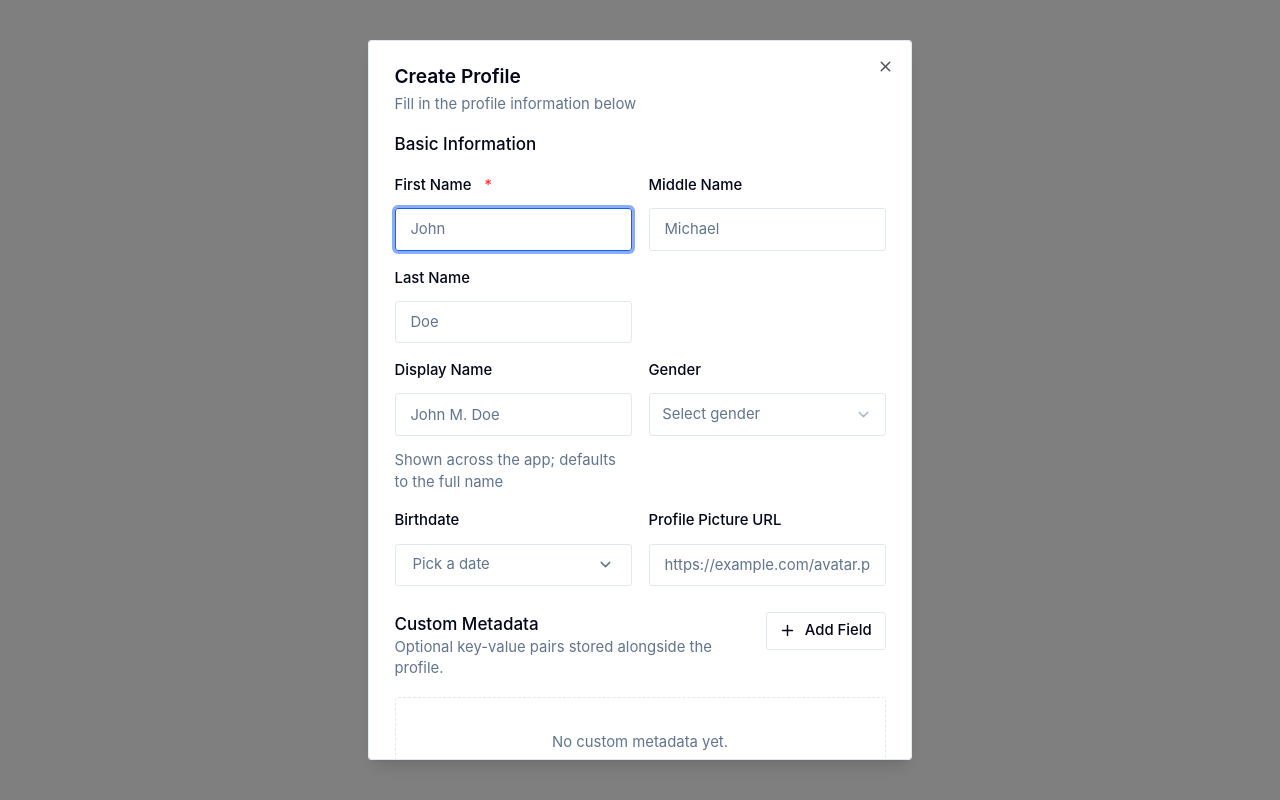
ProfileFormDialog › picks a birthdate from the date field
Click the button named "birthdate".
click(513, 565)  # box [394,544,632,586]
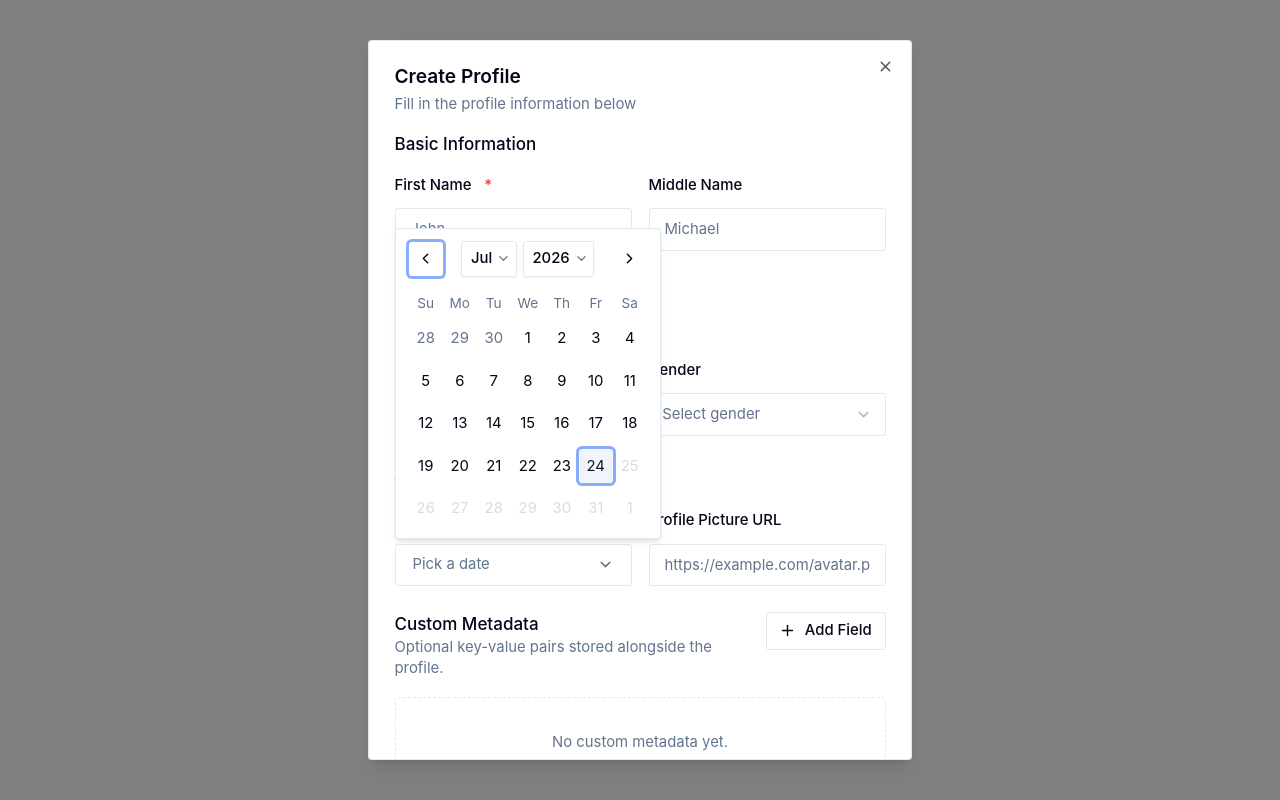
Expected: the 1st button "28" is shown
Click the 1st button "28".
click(426, 339)  # box [409,322,443,356]
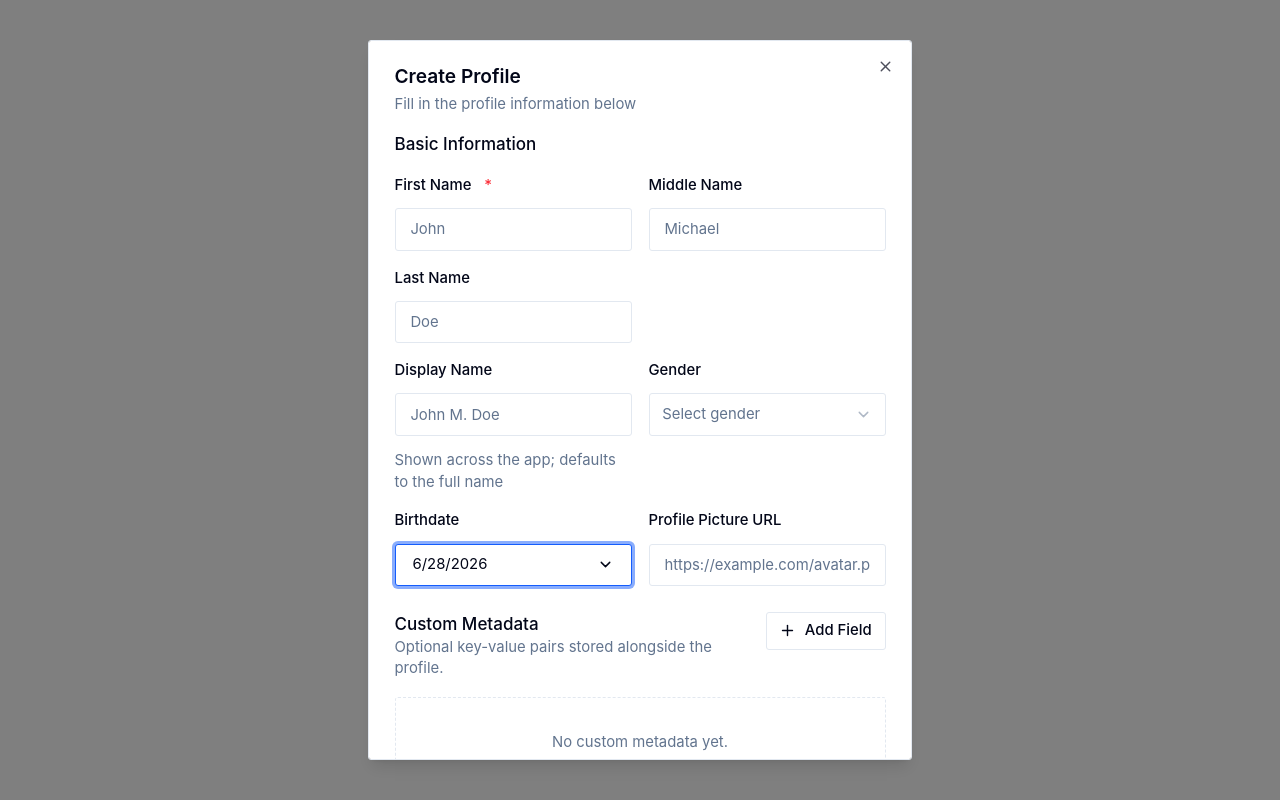
Expected: the button named "birthdate" no longer shows "Pick a date", [394,544,632,586]
